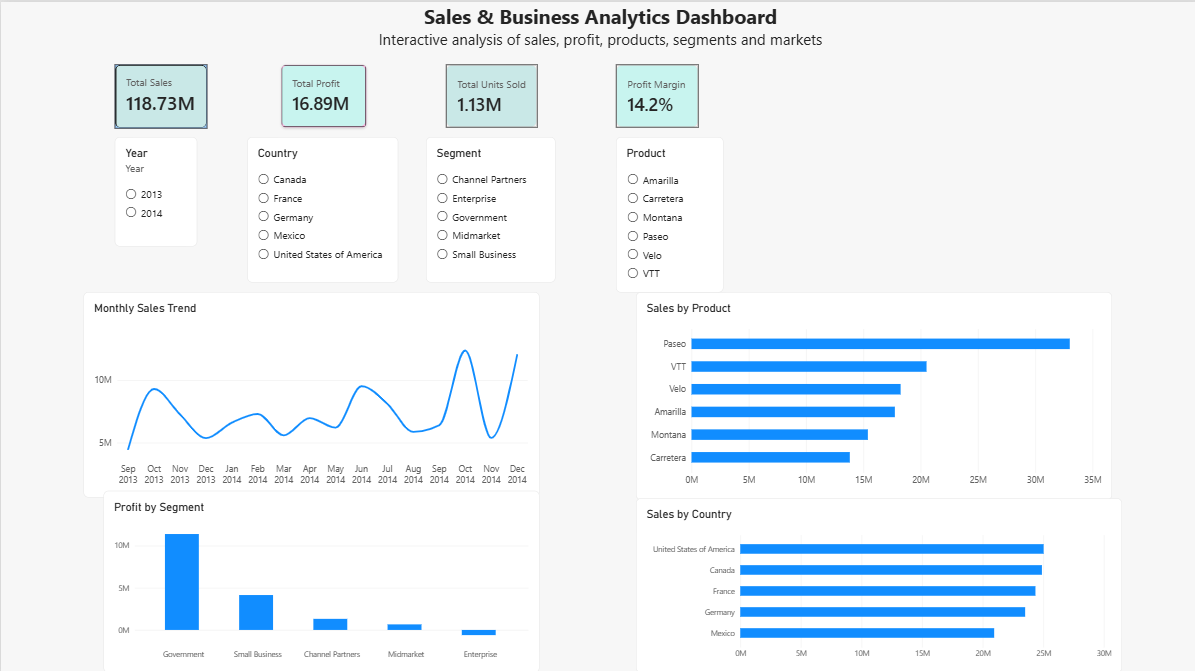

The page's visual inventory and layout, read from the dashboard file:
{"tool":"powerbi","page":{"name":"Page 1","canvas":[1920,1080],"ordinal":0},"visuals":[{"type":"cardVisual","fields":{"Data":["SalesData.Total Sales"]},"box":[182,100,148,102],"z":0},{"type":"cardVisual","fields":{"Data":["SalesData.Total Profit"]},"box":[447,100.1,137.5,101.3],"z":1000},{"type":"cardVisual","fields":{"Data":["SalesData.Total Units Sold"]},"box":[712,100,146.6,101.3],"z":2000},{"type":"cardVisual","fields":{"Data":["SalesData.Profit Margin"]},"box":[984,100,132.1,101.3],"z":3000},{"type":"lineChart","title":"Monthly Sales Trend","fields":{"Category":["SalesData.Month Year"],"Y":["Sum(SalesData. Sales)"]},"box":[132.3,464.9,729.5,329],"z":4000},{"type":"clusteredBarChart","title":"Sales by Product","fields":{"Category":["SalesData.Product"],"Y":["Sum(SalesData. Sales)"]},"box":[1015.6,464.9,761.7,332.6],"z":5000},{"type":"clusteredColumnChart","title":"Profit by Segment","fields":{"Category":["SalesData.Segment"],"Y":["Sum(SalesData.Profit)"]},"box":[164.5,781.4,697.3,291.5],"z":6000},{"type":"clusteredBarChart","title":"Sales by Country","fields":{"Category":["SalesData.Country"],"Y":["Sum(SalesData. Sales)"]},"box":[1015.6,793.9,777.8,278.9],"z":7000},{"type":"listSlicer","title":"Year","fields":{"Values":["SalesData.Year"]},"box":[182.4,216.4,132.3,175.2],"z":8000},{"type":"listSlicer","fields":{"Values":["SalesData.Product"]},"box":[983.4,216.4,171.7,248.5],"z":9000},{"type":"listSlicer","fields":{"Values":["SalesData.Country"]},"box":[393.4,216.4,241.4,232.4],"z":10000},{"type":"listSlicer","fields":{"Values":["SalesData.Segment"]},"box":[679.5,216.4,207.4,232.4],"z":11000},{"type":"textbox","box":[0,0,1918.6,100.1],"z":12000}]}

Visuals, with their boxes in screenshot pixels (x1, y1, x2, y2), scaled from the page's 1920x1080 canvas onto the 1195x671 screenshot:
cardVisual - SalesData.Total Sales: bbox=(113, 62, 205, 126)
cardVisual - SalesData.Total Profit: bbox=(278, 62, 364, 125)
cardVisual - SalesData.Total Units Sold: bbox=(443, 62, 534, 125)
cardVisual - SalesData.Profit Margin: bbox=(612, 62, 695, 125)
"Monthly Sales Trend" lineChart: bbox=(82, 289, 536, 493)
"Sales by Product" clusteredBarChart: bbox=(632, 289, 1106, 495)
"Profit by Segment" clusteredColumnChart: bbox=(102, 485, 536, 667)
"Sales by Country" clusteredBarChart: bbox=(632, 493, 1116, 667)
"Year" listSlicer: bbox=(114, 134, 196, 243)
listSlicer - SalesData.Product: bbox=(612, 134, 719, 289)
listSlicer - SalesData.Country: bbox=(245, 134, 395, 279)
listSlicer - SalesData.Segment: bbox=(423, 134, 552, 279)
textbox: bbox=(0, 0, 1194, 62)
